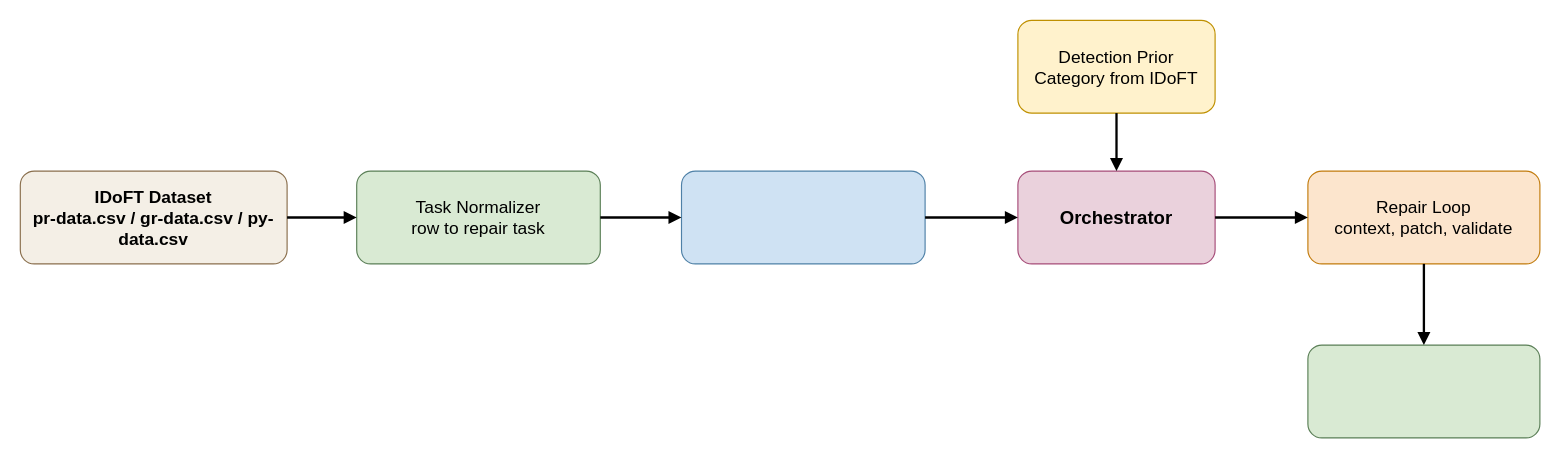
Image size: 1560x458. Some labels were removed from this diagram. The centre of each missing label's shape, as x and y in pixels:
Benchmark Output repaired / partial / failed: pixel 1423 391
Repository Setup clone + checkout SHA: pixel 802 217
